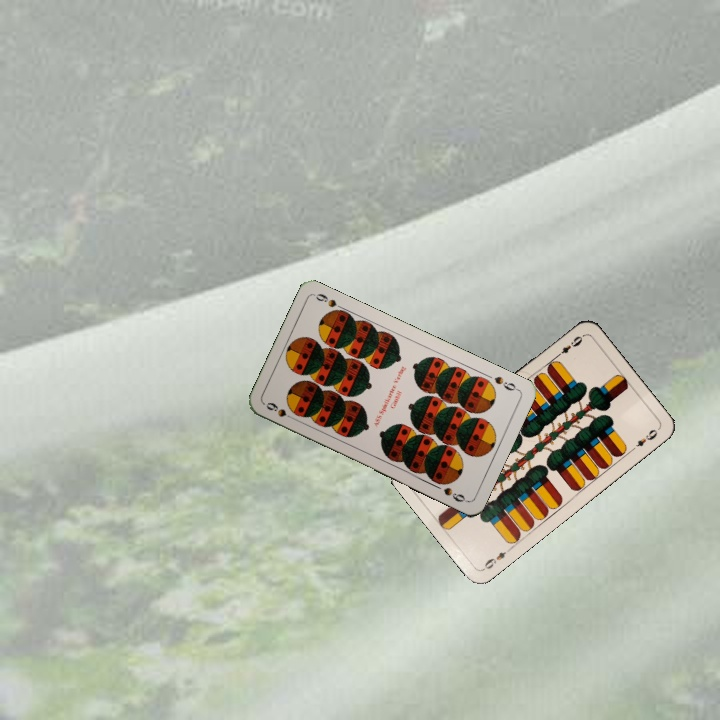E9: (551, 331, 586, 361), (479, 543, 514, 572)
S9: (262, 398, 299, 423), (490, 372, 521, 393)
